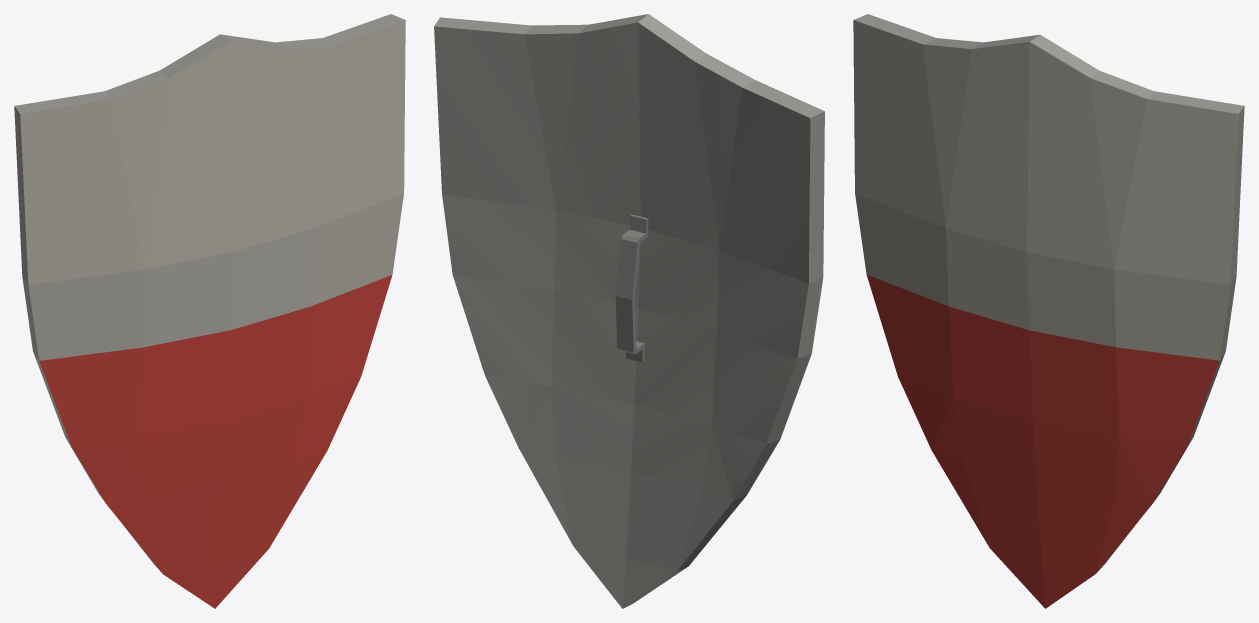
Rendered from SM_pwe_medieval_shield_07c.fbx.
3 views of the same model, side by side, from view 1: azimuth 30°, elevation 25°; view 2: azimuth 150°, elevation 25°; view 3: azimuth 330°, elevation 25° (orthographic).
Parts seen in each view (by area): view 1: SM_pwe_medieval_shield_07c; view 2: SM_pwe_medieval_shield_07c; view 3: SM_pwe_medieval_shield_07c.
Part boxes in pixels (bbox=[...]): SM_pwe_medieval_shield_07c: bbox=[14, 14, 405, 608]; SM_pwe_medieval_shield_07c: bbox=[434, 14, 824, 608]; SM_pwe_medieval_shield_07c: bbox=[853, 14, 1244, 608].
Bounding box in the file's own units: 63.01 × 90.45 × 8.5.
